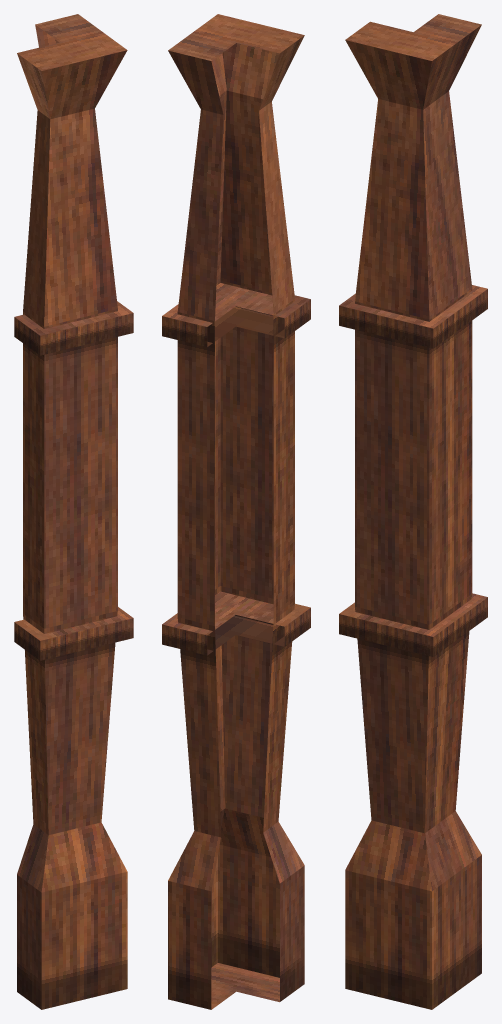
Rendered from pillar0_003.glb.
The picture shows the model from 3 angles, left to right: view 1: azimuth 30°, elevation 25°; view 2: azimuth 150°, elevation 25°; view 3: azimuth 330°, elevation 25°; orthographic projection.
Parts seen in each view (by area): view 1: pillar0.003; view 2: pillar0.003; view 3: pillar0.003.
Part boxes in pixels (x1,y1,x2,y2): pillar0.003: [14, 14, 133, 1009]; pillar0.003: [162, 14, 310, 1009]; pillar0.003: [339, 14, 487, 1009].
Size of the model in its own units: 0.25 by 2.4 by 0.25.
1 material, 1 textured.
